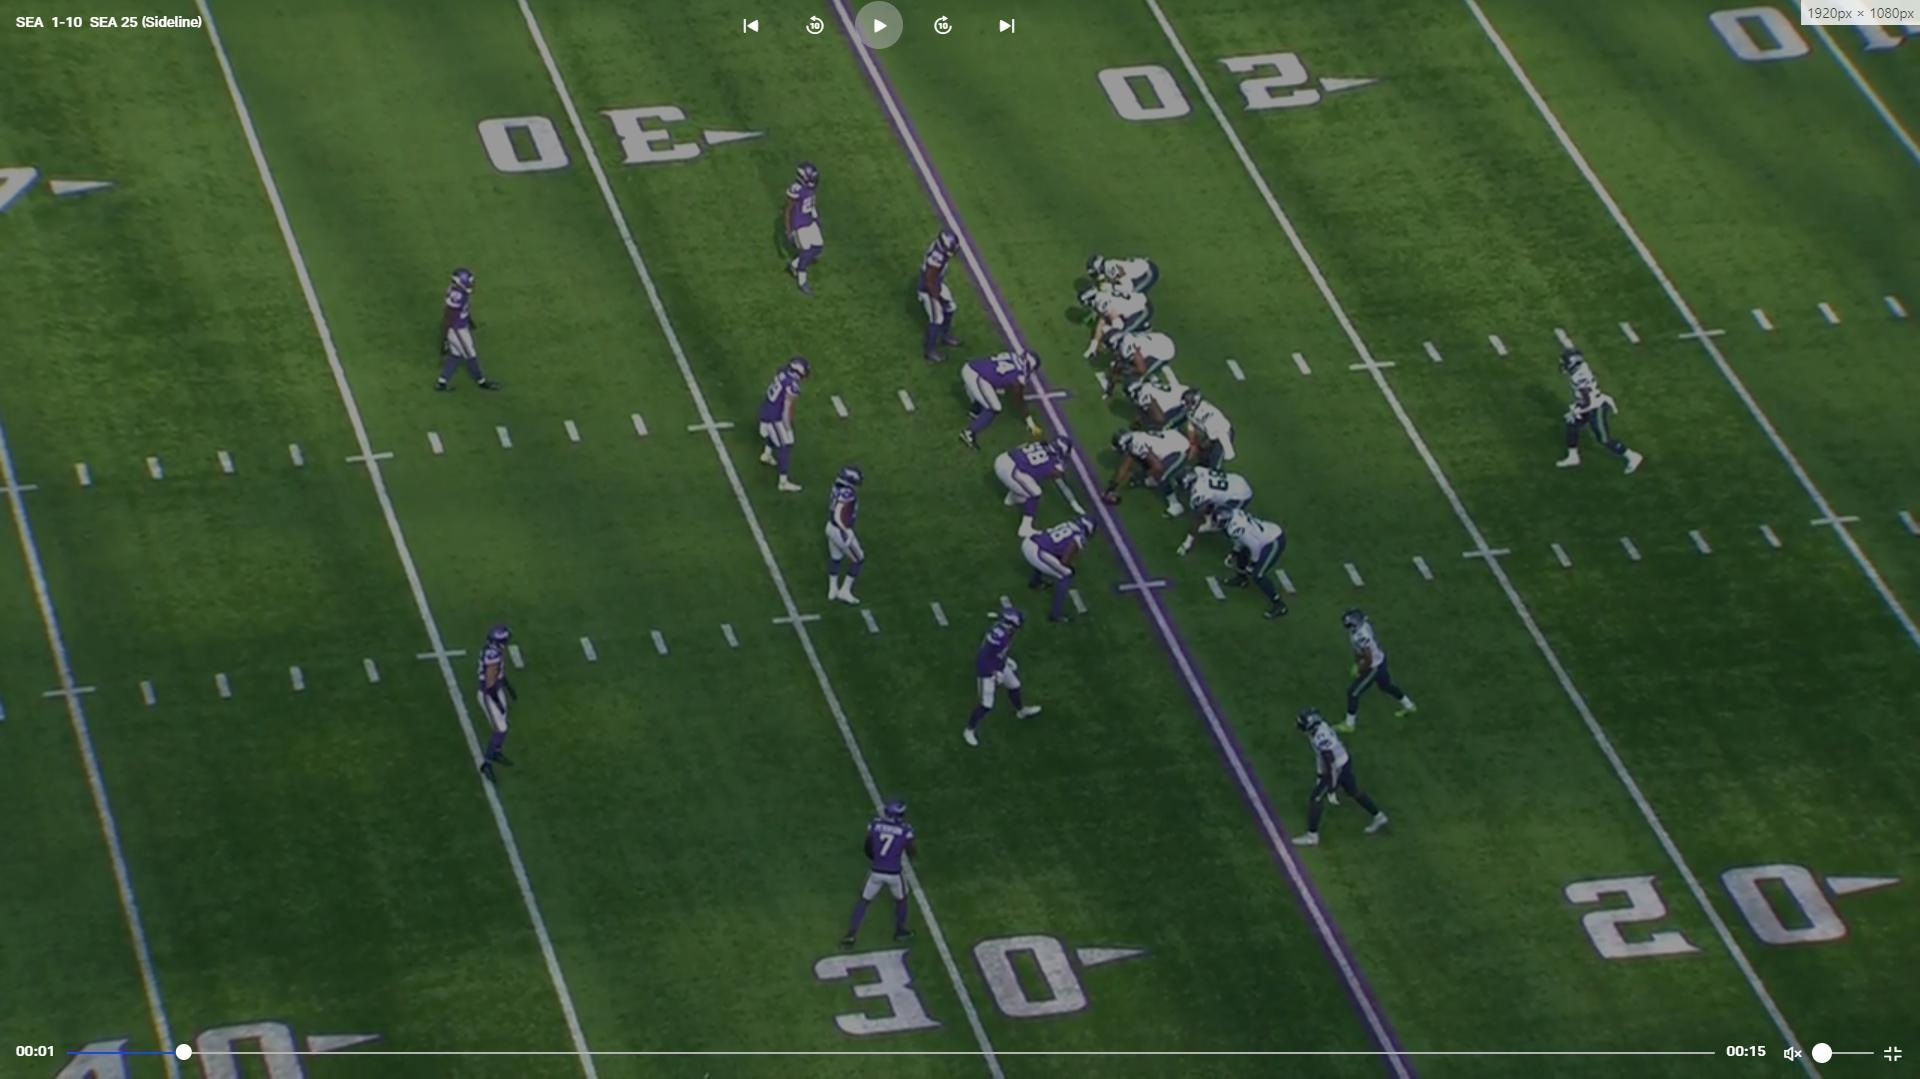player: (830, 792, 926, 955), (1295, 708, 1398, 851), (1560, 326, 1652, 476), (962, 603, 1050, 755), (1337, 602, 1426, 732), (1023, 507, 1107, 621), (434, 266, 503, 400), (959, 350, 1047, 453), (1217, 511, 1300, 620), (476, 619, 530, 782), (996, 434, 1076, 541), (824, 459, 879, 606), (762, 353, 817, 495), (1113, 430, 1199, 516), (917, 231, 970, 369), (785, 162, 836, 304), (1186, 468, 1261, 557), (1073, 290, 1150, 372), (1103, 324, 1181, 396), (1192, 389, 1247, 482), (1078, 253, 1157, 317), (1124, 382, 1199, 435)
